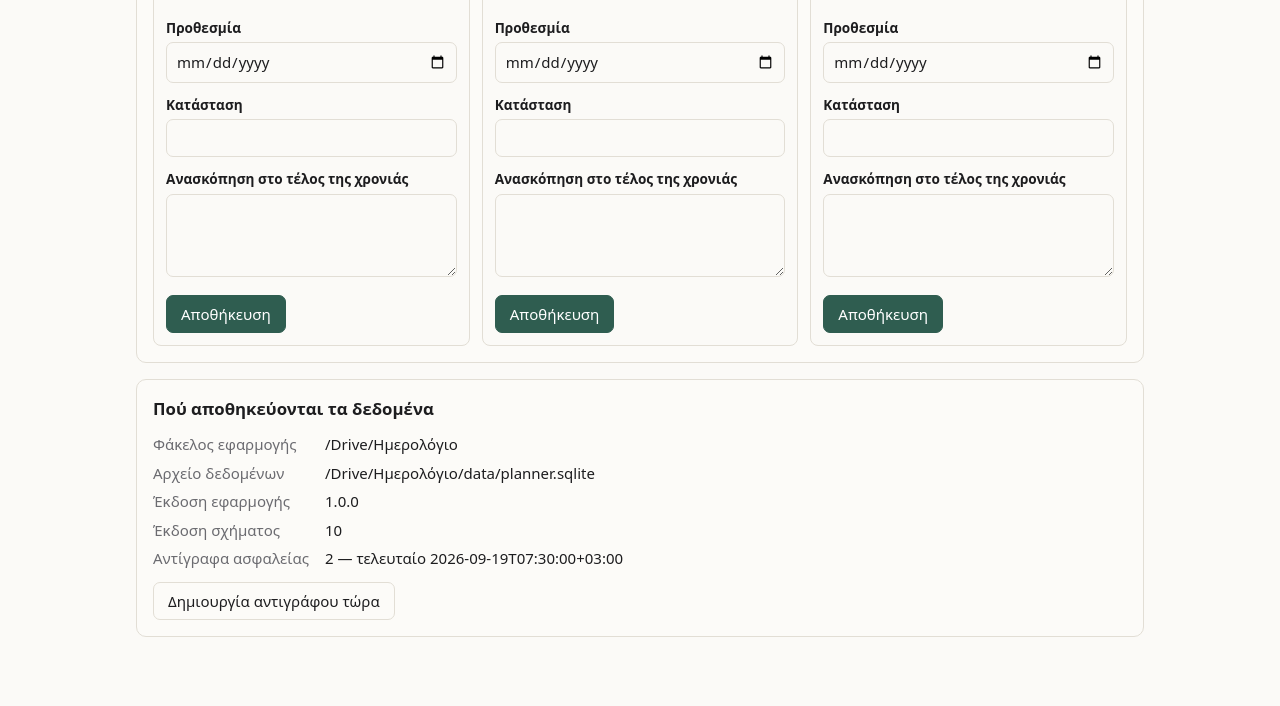
the app shell › reports a written snapshot
(page scrolled)
Click the button "Δημιουργία αντιγράφου τώρα" at coordinates (274, 601), box x1=153 y1=582 x2=395 y2=620
(page scrolled)
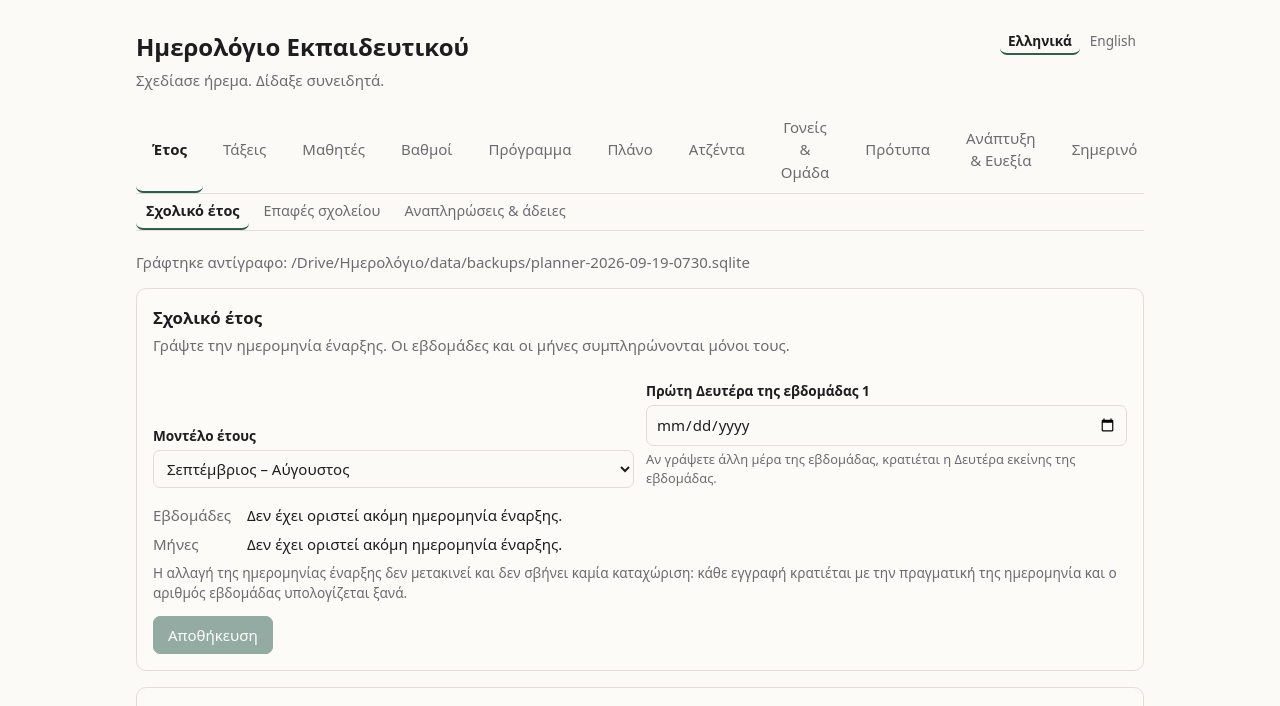
Check: the text "planner-2026-09-19-0730.sqlite" is shown, box x1=136 y1=252 x2=750 y2=272
